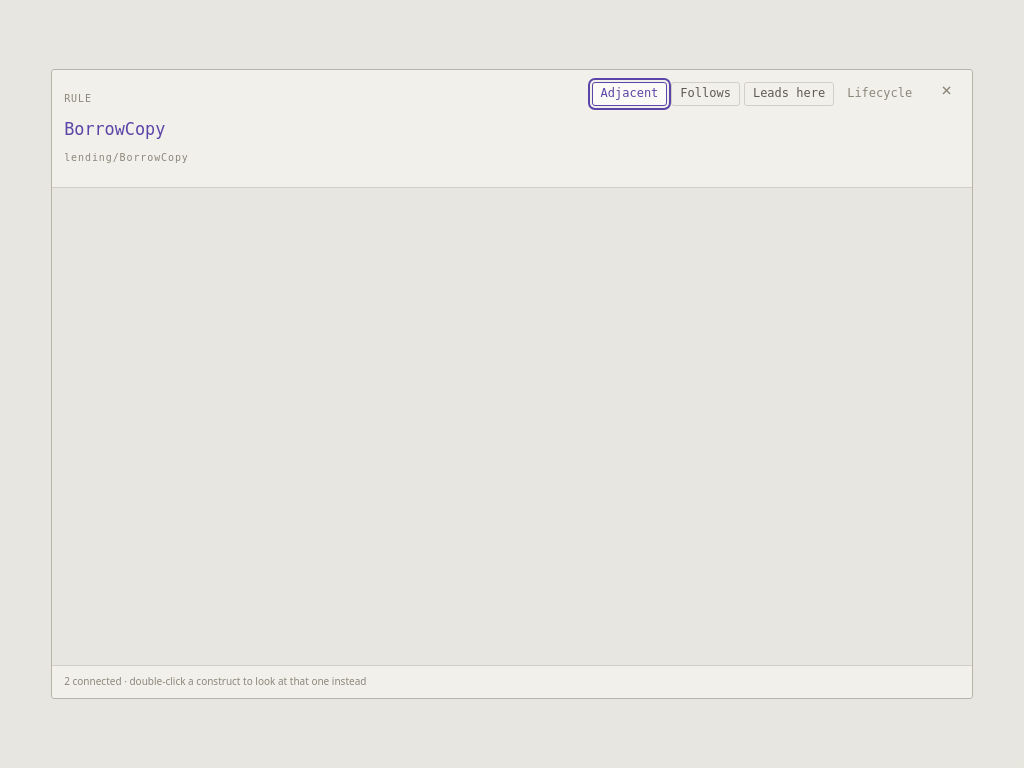
Test: Focus › switches which question it is answering
The width and height of the screenshot is (1024, 768).
Click the button "Follows": (706, 94) left=671, top=82, right=740, bottom=106
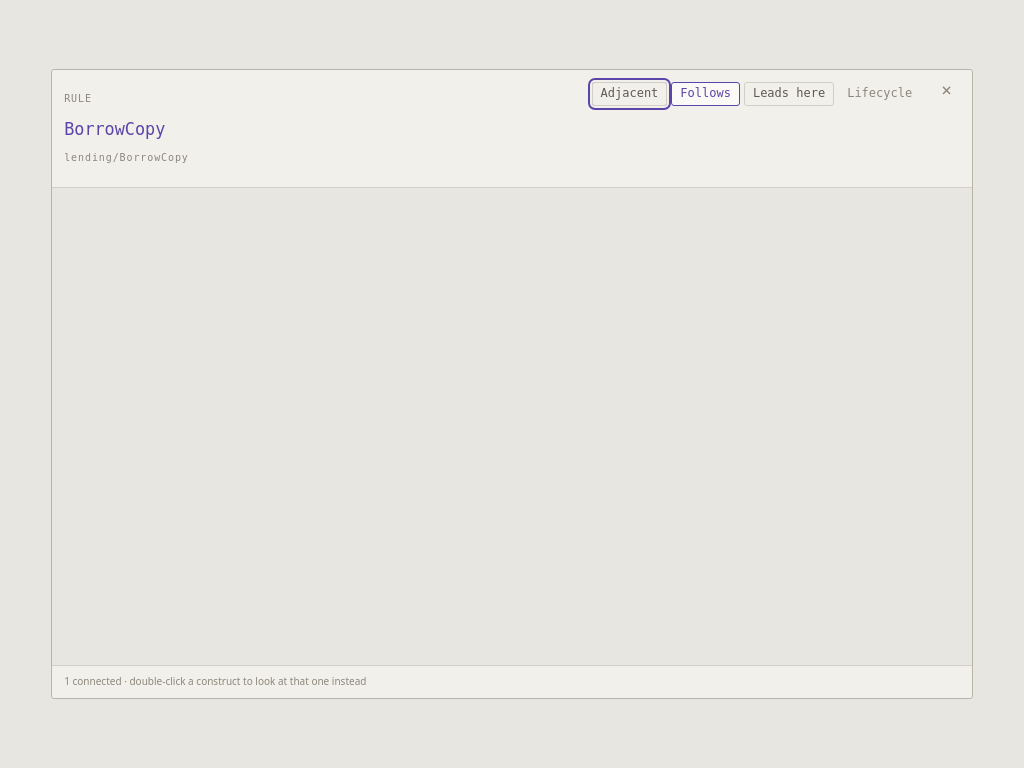
Expected: the text "1 connected" is shown, left=64, top=674, right=366, bottom=688
